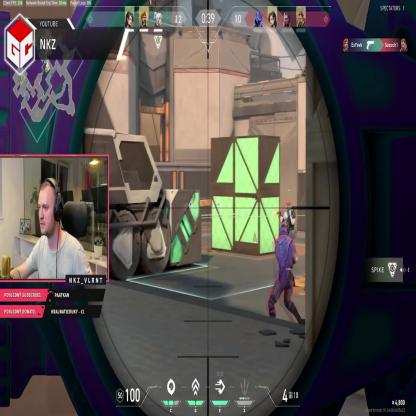enemy: (266, 224, 308, 328)
enemy_head: (279, 224, 288, 236)
